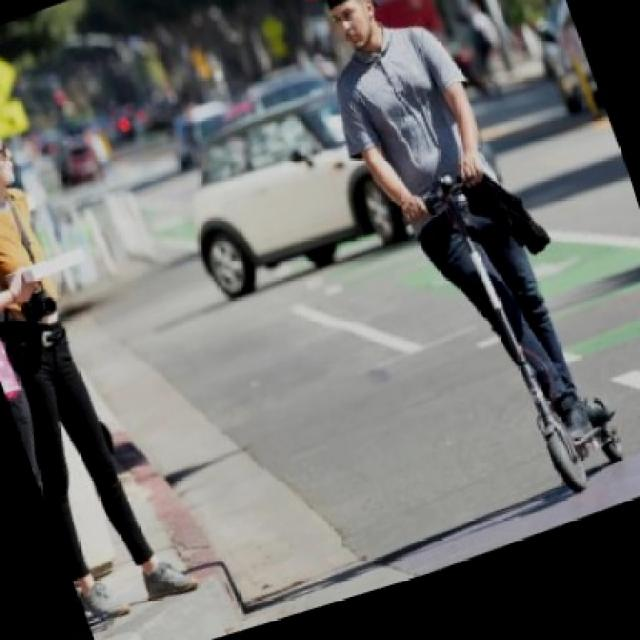bare_head: (301, 0, 397, 52)
human: (300, 0, 597, 426)
kickboard: (513, 399, 631, 500)
